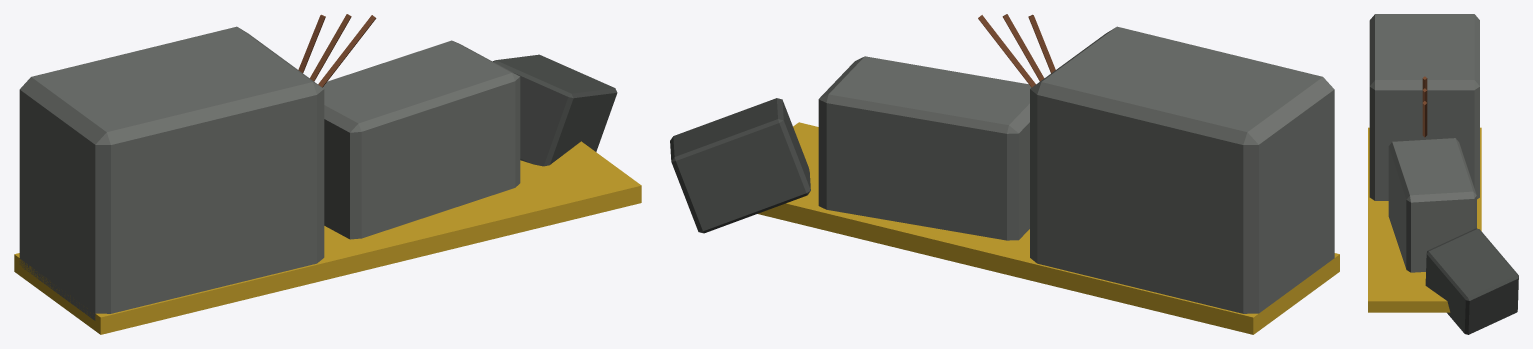
File: Barrier_Broken.fbx
3 renders of one model, left to right at view 1: azimuth 30°, elevation 25°; view 2: azimuth 150°, elevation 25°; view 3: azimuth 270°, elevation 25°, orthographic. The views are drawn at different scales.
Visible parts, largest first — view 1: Barrier_Broken; view 2: Barrier_Broken; view 3: Barrier_Broken.
Boxes of the visible parts, bbox=[...] form: Barrier_Broken: bbox=[14, 14, 641, 334]; Barrier_Broken: bbox=[670, 14, 1339, 334]; Barrier_Broken: bbox=[1368, 14, 1518, 334].
Size of the model in its own units: 2.85 by 1.13 by 0.9558.
